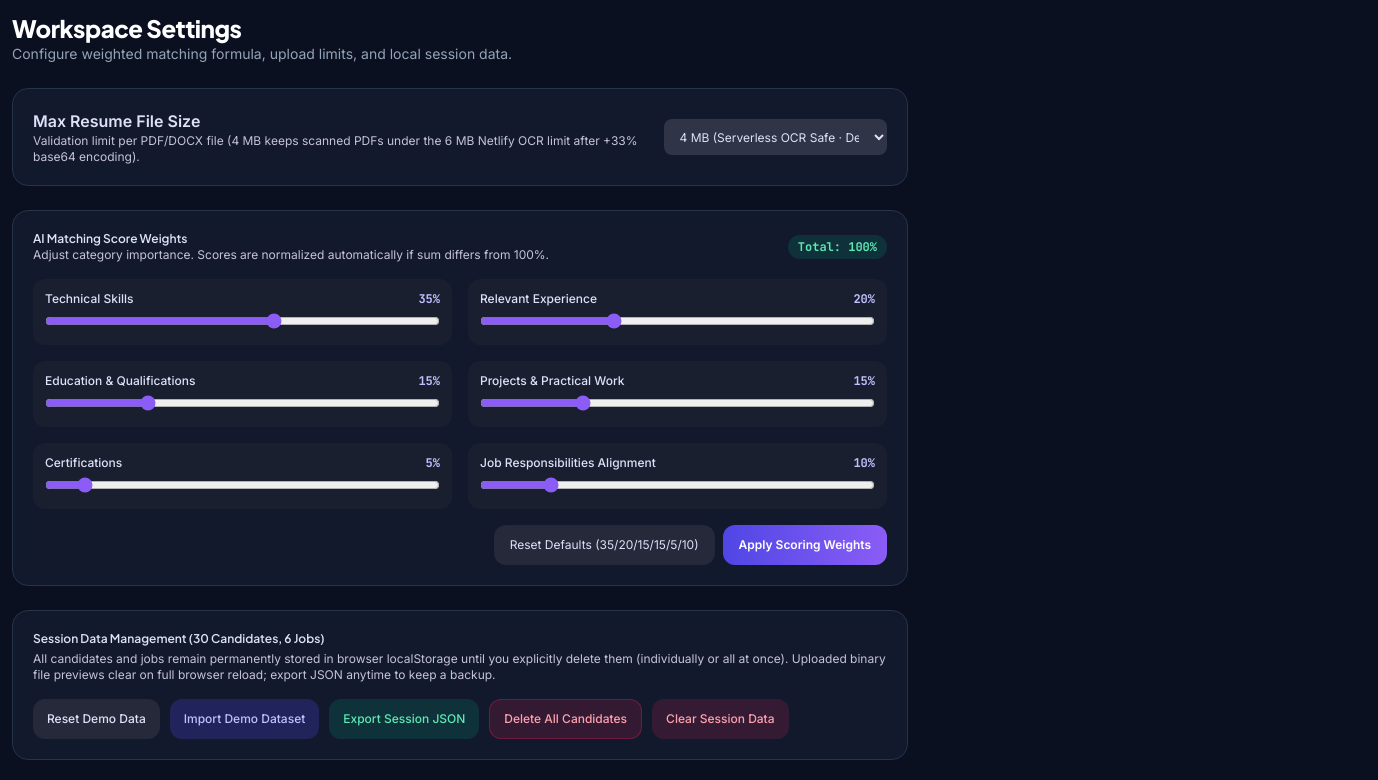
Scenario: UI Integration & Defect Verification (PRD Modules 4–23) › DEFECT-4 / SCORE-018 / SET-003 REGRESSION: Settings prevents applying all-zero weights
Set the slider below "Technical Skills" to "0" at (53,321), box [45, 313, 440, 329]
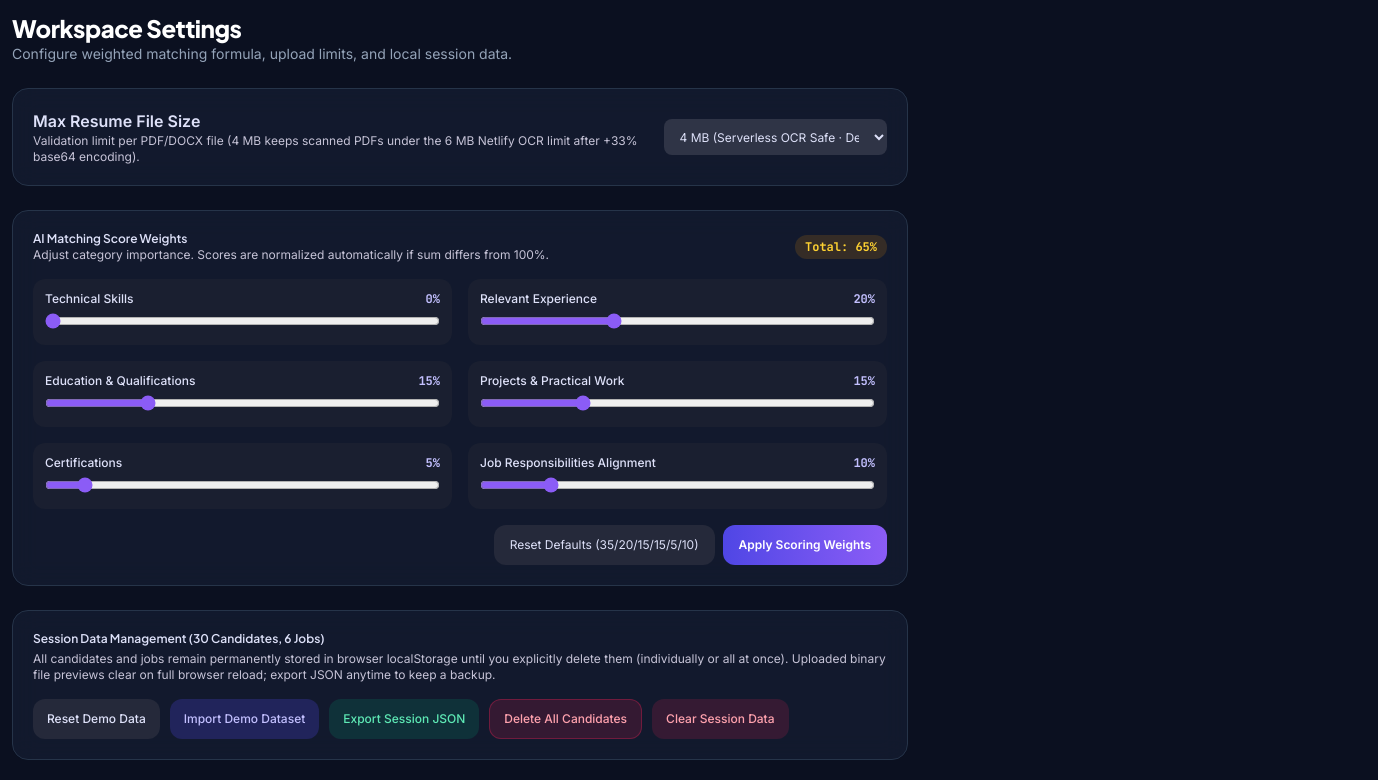
Set the slider below "Relevant Experience" to "0" at (488,321), box [480, 313, 875, 329]
Set the slider below "Education & Qualifications" to "0" at (53,403), box [45, 395, 440, 411]
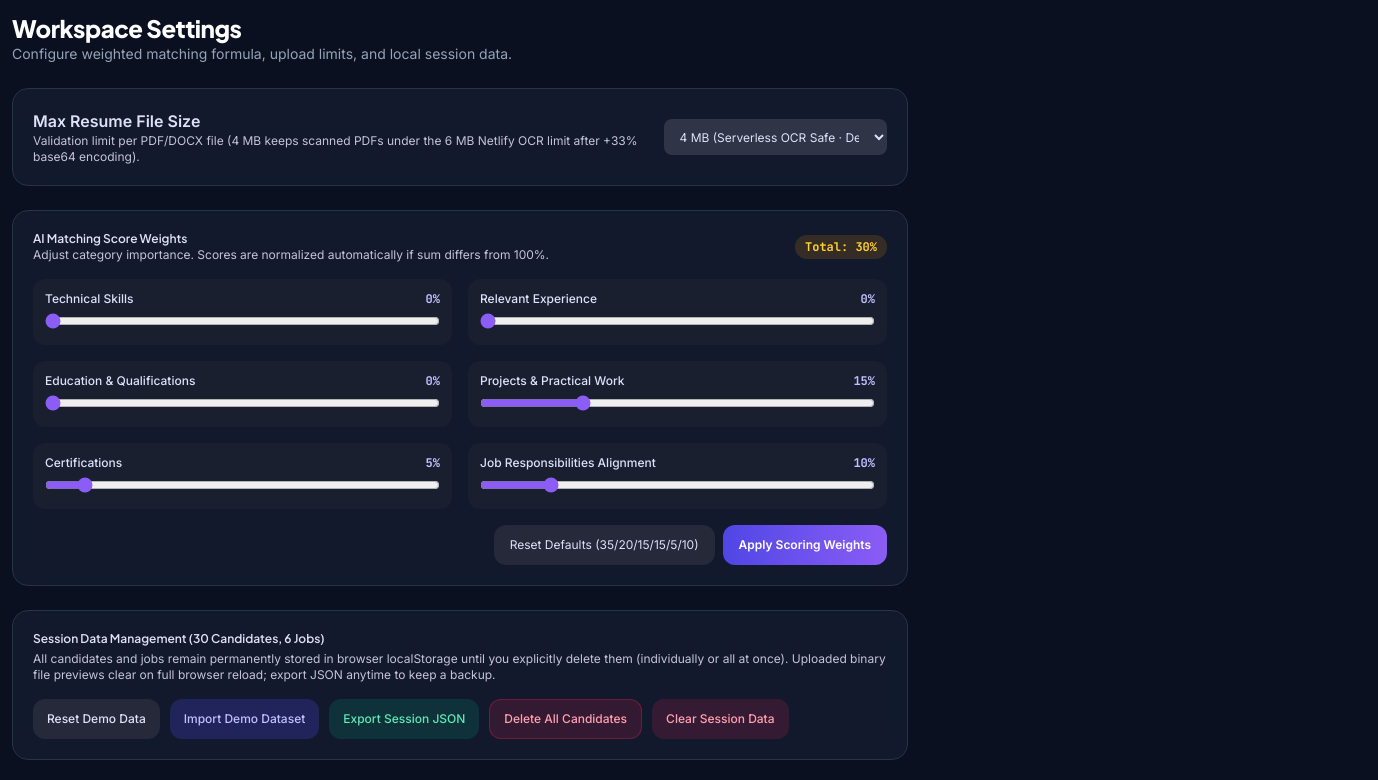
Set the slider below "Projects & Practical Work" to "0" at (488,403), box [480, 395, 875, 411]
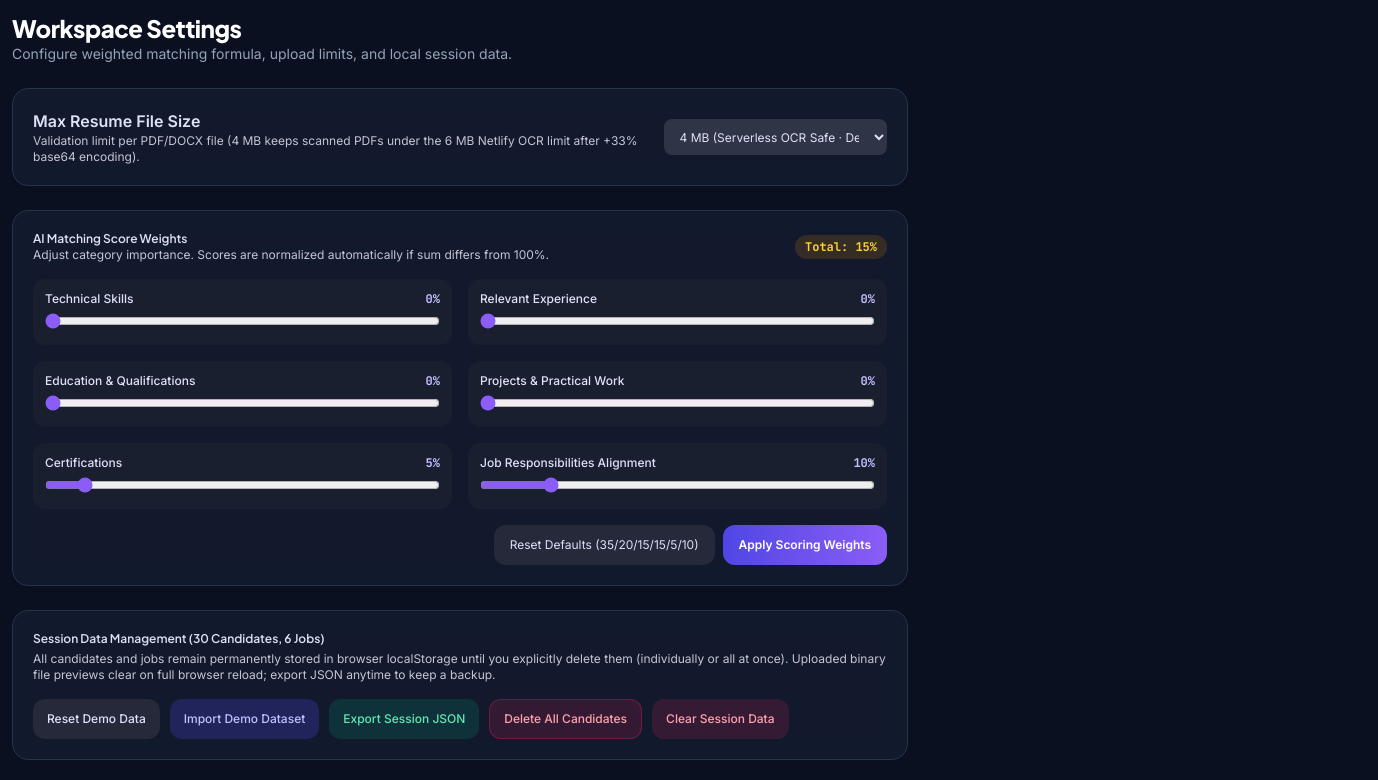
Set the slider below "Certifications" to "0" at (53,485), box [45, 477, 440, 493]
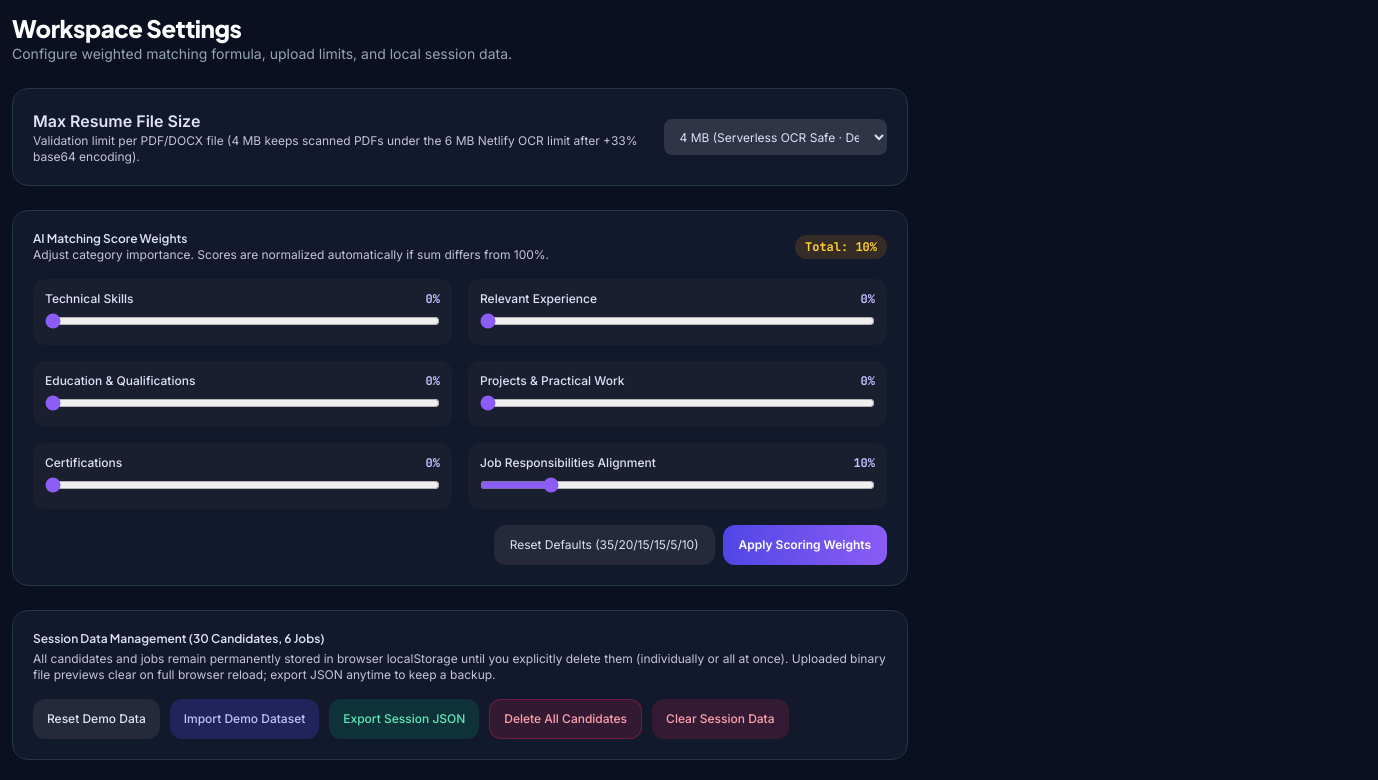
Set the slider below "Job Responsibilities Alignment" to "0" at (488,485), box [480, 477, 875, 493]
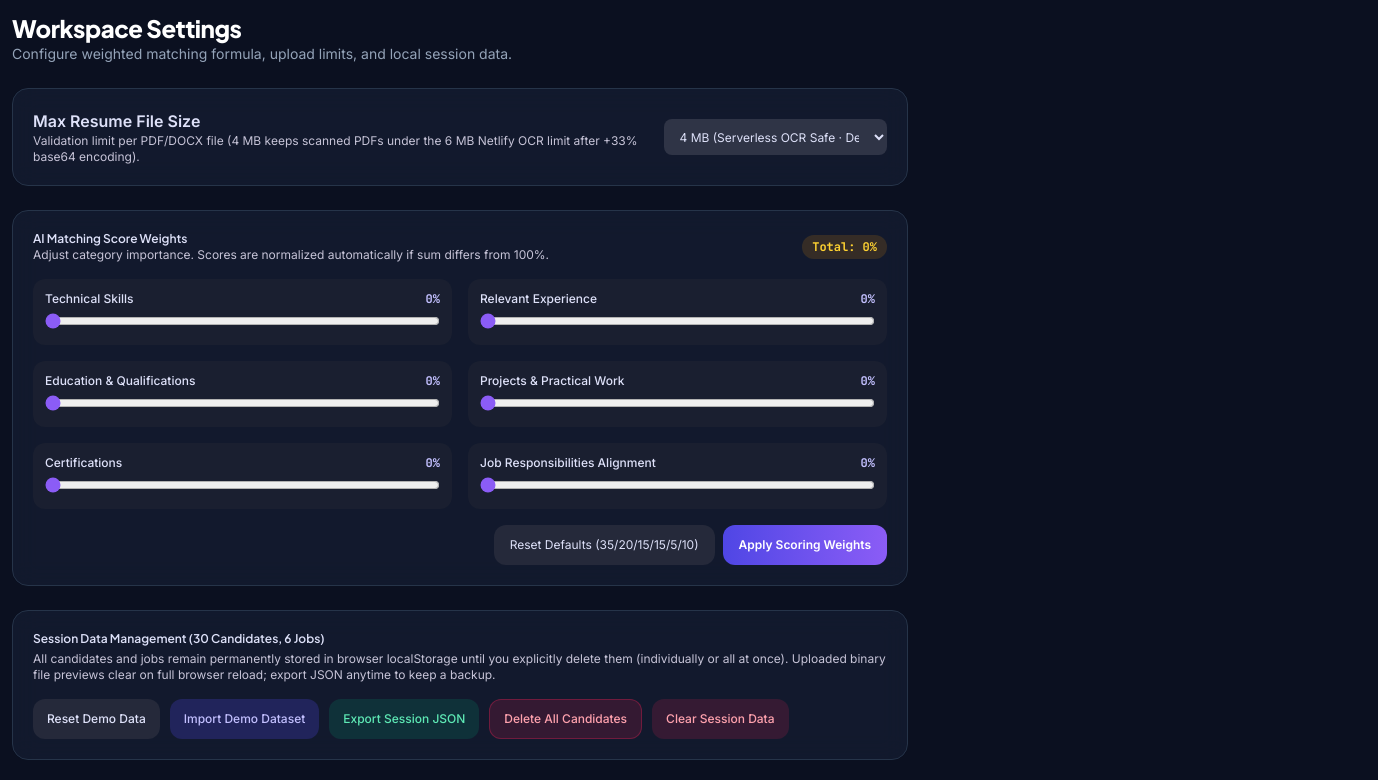
Now the text "Total: 0%" is shown, box [802, 235, 887, 259]
Click the button "Apply Scoring Weights".
click(805, 545)  # box [722, 525, 887, 565]
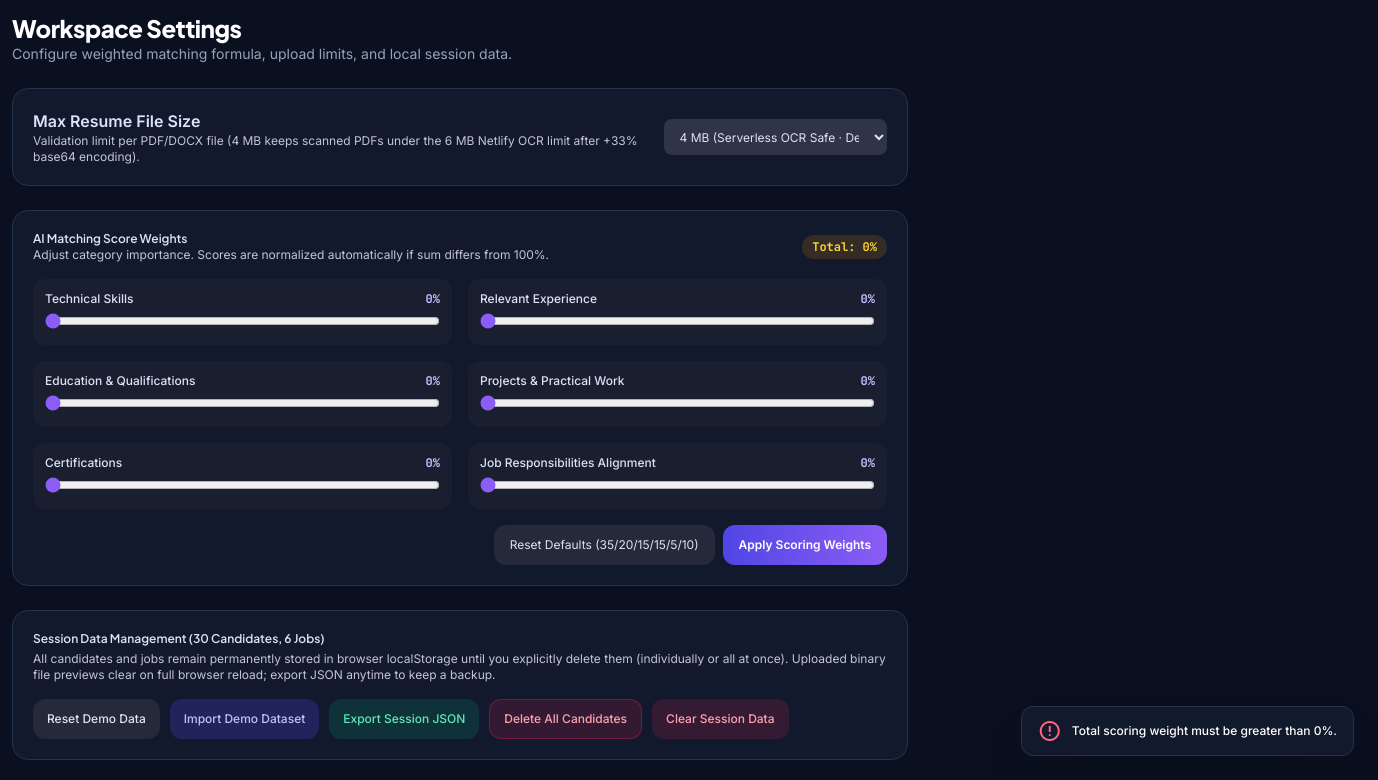
Now the text "Total scoring weight must be greater than 0%." is shown, box [1072, 723, 1337, 739]
